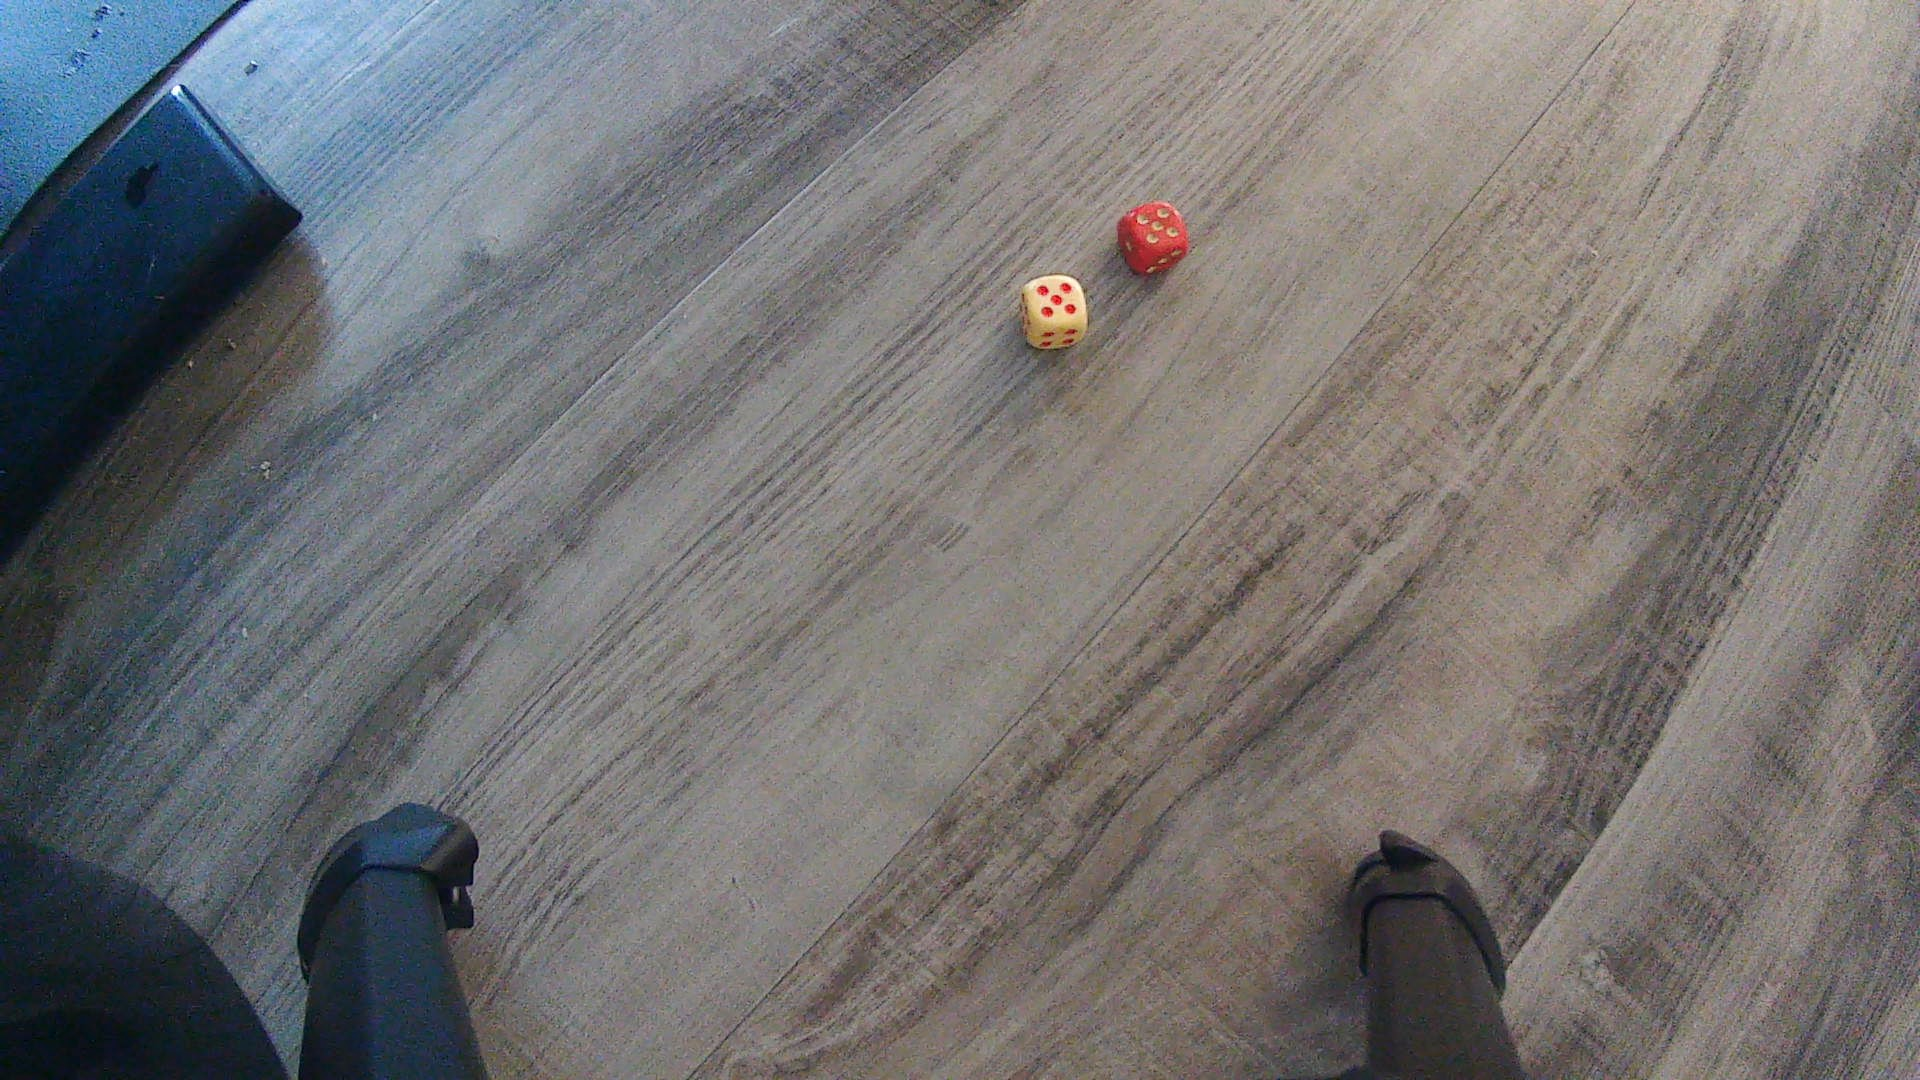die: (1116, 200, 1192, 277), (1021, 274, 1089, 349)
